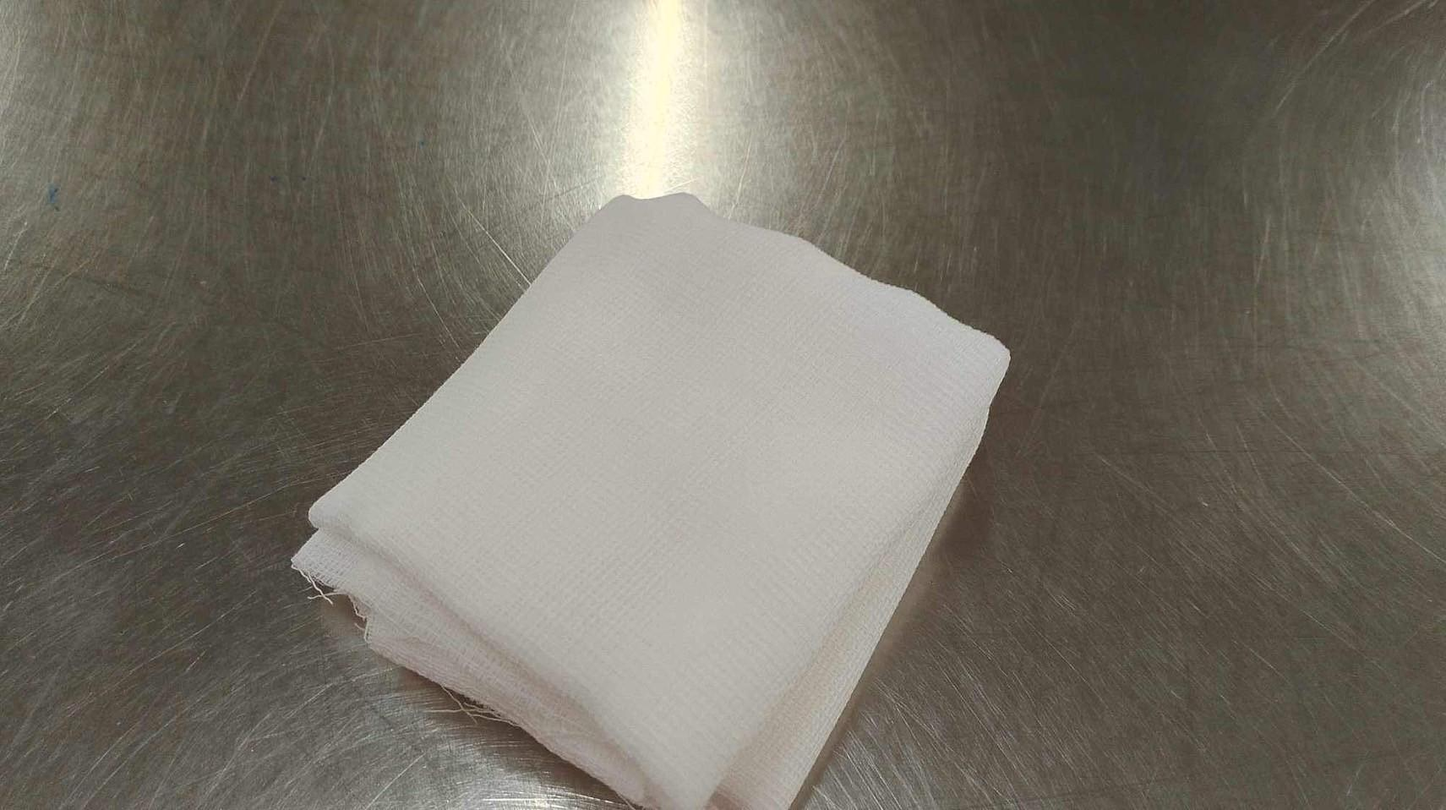Infectious: (290, 189, 1012, 807)
Sharps: (450, 194, 537, 297)
